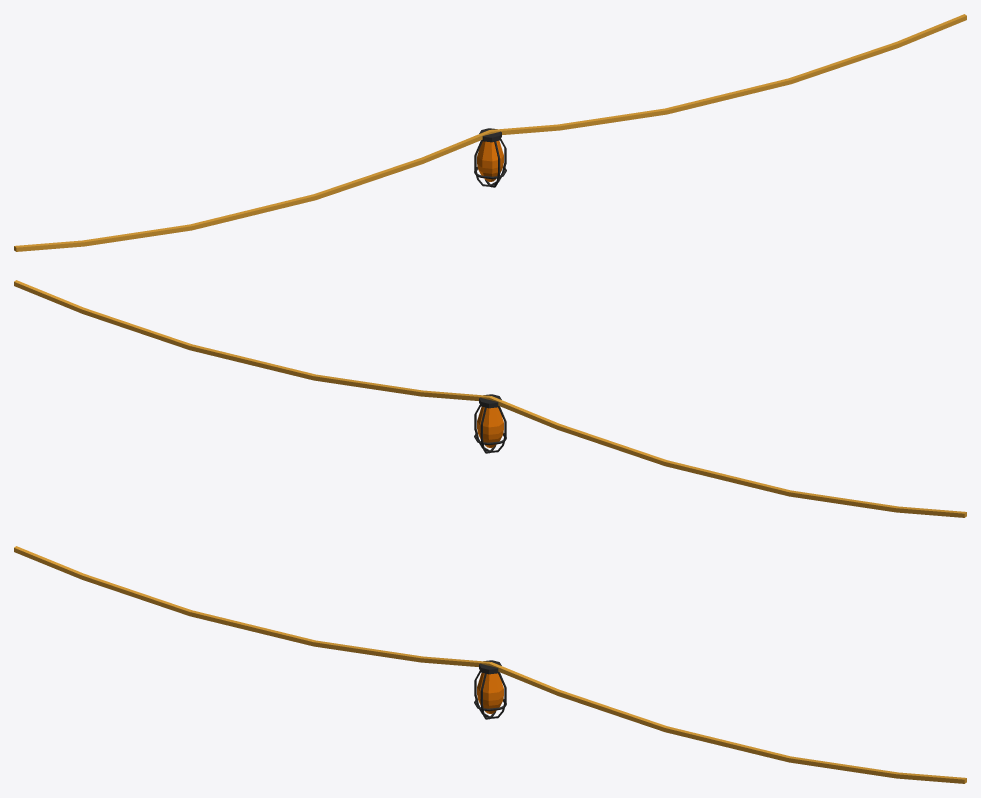
File: WallDecor_10.fbx
3 renders of one model, top to bottom at view 1: azimuth 30°, elevation 25°; view 2: azimuth 150°, elevation 25°; view 3: azimuth 330°, elevation 25°, orthographic.
Visible parts, largest first — view 1: WallDecor_10; view 2: WallDecor_10; view 3: WallDecor_10.
Part boxes in pixels (bbox=[...]): WallDecor_10: bbox=[14, 14, 966, 251]; WallDecor_10: bbox=[14, 280, 966, 517]; WallDecor_10: bbox=[14, 546, 966, 783].
Size of the model in its own units: 500 by 28.12 by 16.58.
